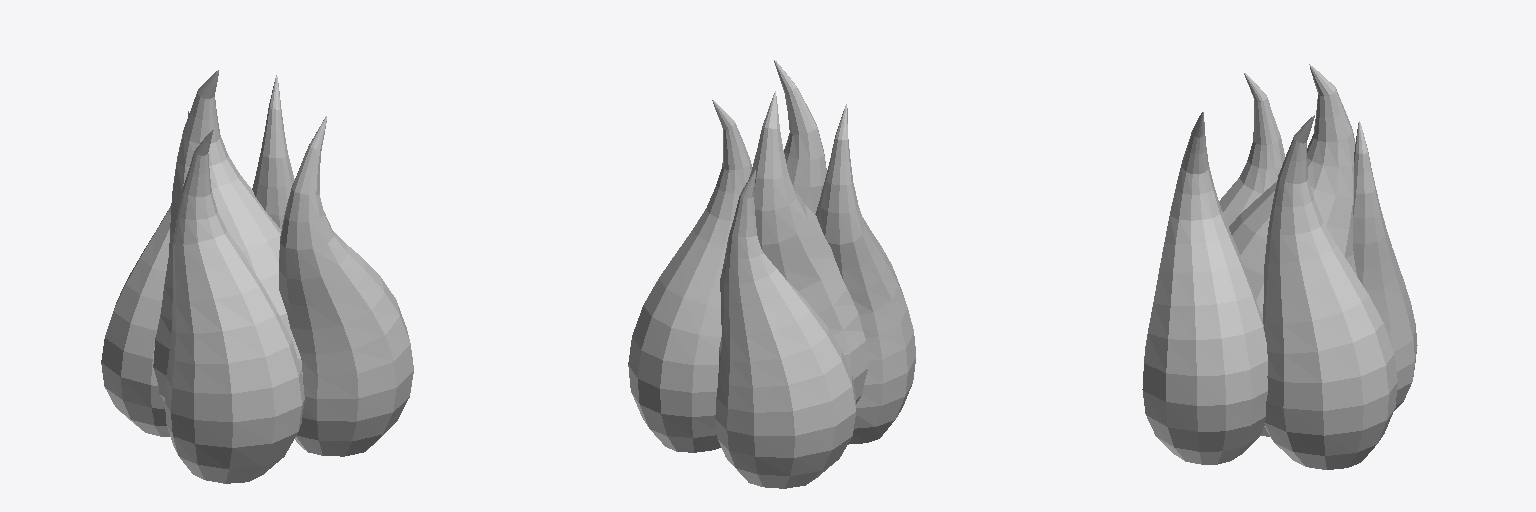
File: fire_000005.obj
The picture shows the model from 3 angles: view 1: azimuth 30°, elevation 25°; view 2: azimuth 150°, elevation 25°; view 3: azimuth 270°, elevation 25°; orthographic projection.
Parts seen in each view (by area): view 1: flame_NurbsPath.015; view 2: flame_NurbsPath.015; view 3: flame_NurbsPath.015.
Boxes of the visible parts, box(x1,y1,x2,y2) form: flame_NurbsPath.015: box(101, 70, 413, 483); flame_NurbsPath.015: box(628, 60, 915, 488); flame_NurbsPath.015: box(1142, 64, 1417, 469).
Size of the model in its own units: 0.7545 by 1.16 by 0.7983.